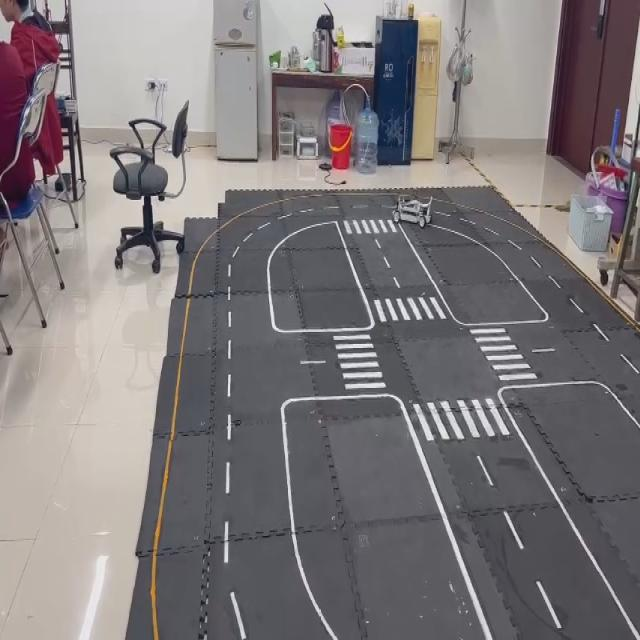SiCo-CAR: (391, 192, 433, 228)
